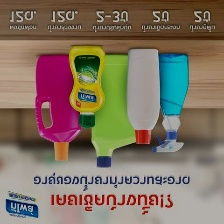cleaning_solution: (87, 50, 146, 168), (31, 51, 90, 163), (147, 50, 193, 154), (123, 45, 162, 146), (66, 42, 107, 130)
